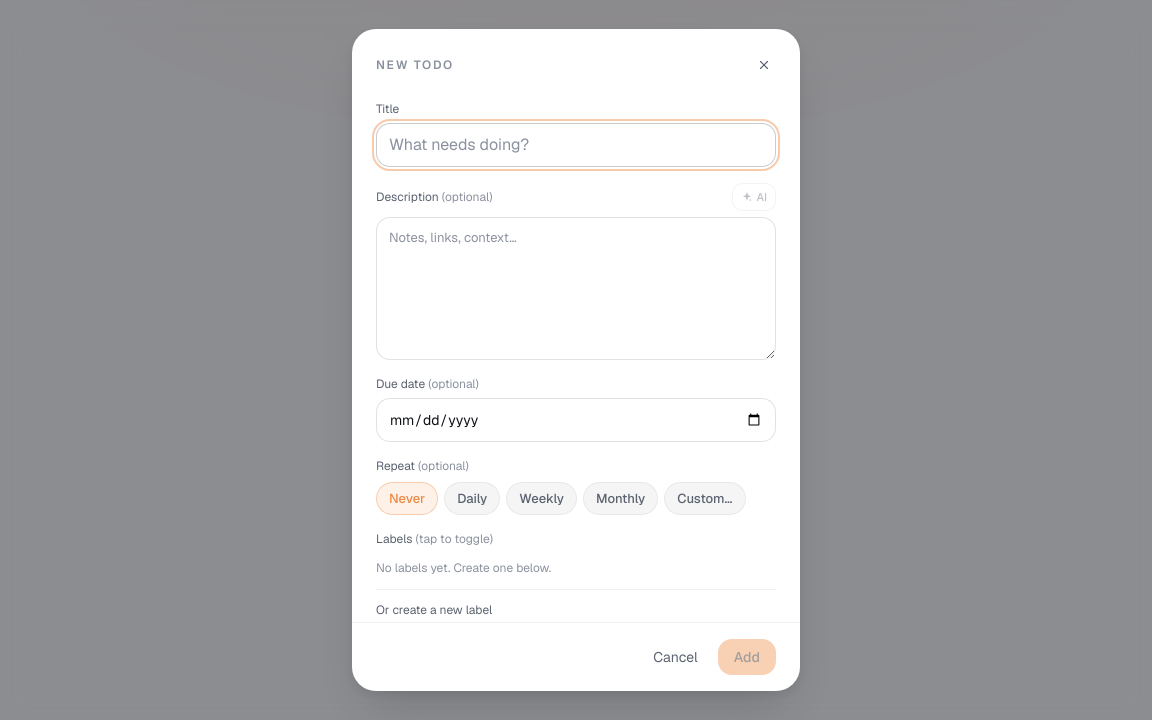
Test: <TodoModal> › disables submit when title is blank and enables it once typed
Expected: the button "Add" is disabled, [718,639,776,675]
In the field with placeholder "What needs doing?": {"x": 576, "y": 145} [376,123,776,167], type "Read book"
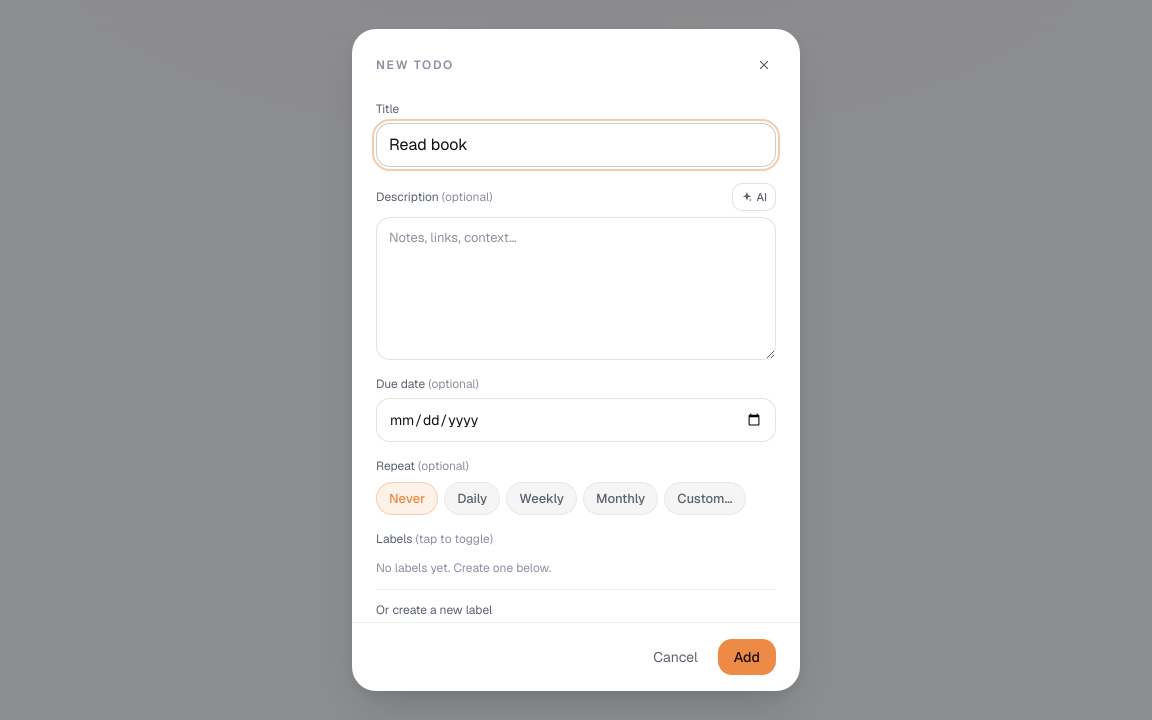
Expected: the button "Add" is enabled, [718,639,776,675]
